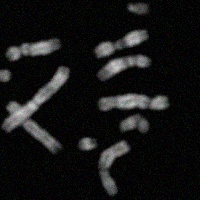chromosome: (2, 66, 68, 131), (4, 101, 61, 153), (98, 139, 130, 195), (96, 28, 150, 57), (97, 54, 150, 81), (96, 92, 168, 111), (9, 36, 59, 61), (120, 115, 149, 134), (77, 136, 98, 151), (0, 66, 11, 91)
